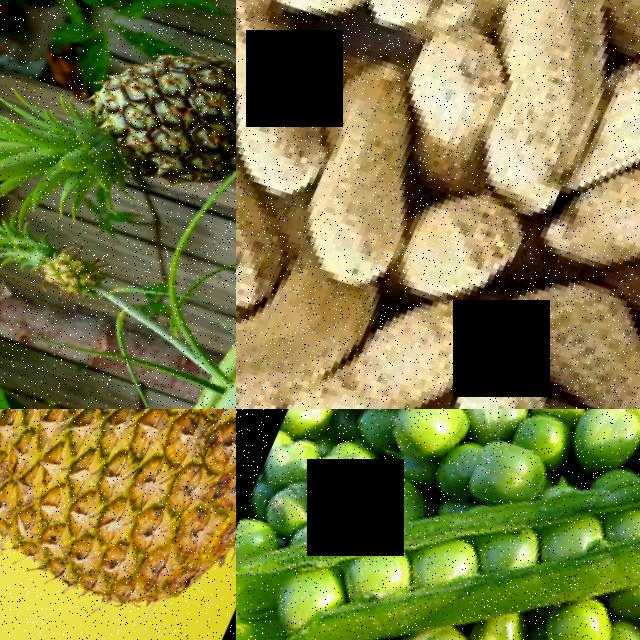peanuts: (270, 63, 462, 307), (236, 12, 369, 209), (236, 243, 380, 409), (385, 170, 530, 323), (472, 0, 639, 127), (383, 13, 520, 166), (328, 278, 479, 409), (543, 142, 640, 319), (236, 140, 313, 328), (359, 0, 511, 55), (258, 0, 423, 44)
peas: (288, 409, 640, 640), (326, 409, 640, 542), (269, 575, 640, 640)
pineapple: (20, 0, 236, 258), (0, 409, 236, 640), (0, 228, 112, 322)
